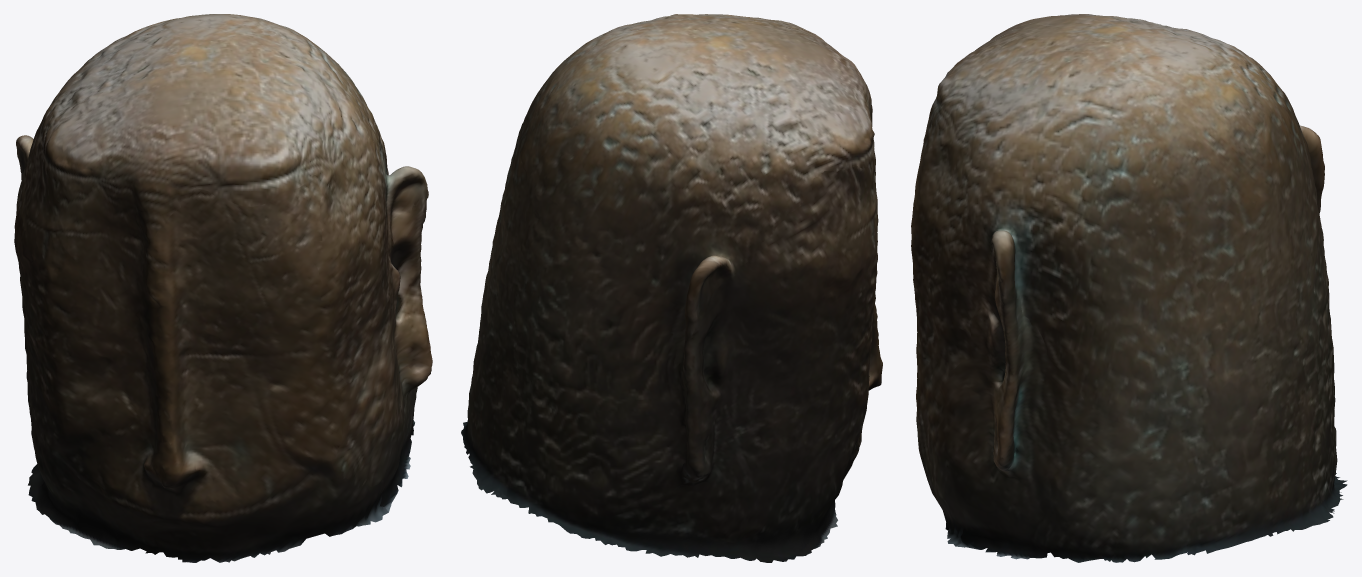
The model's file is smile.glb.
3 views of the same model, side by side, from view 1: azimuth 30°, elevation 25°; view 2: azimuth 150°, elevation 25°; view 3: azimuth 270°, elevation 25° (orthographic). The views are drawn at different scales.
Visible parts, largest first — view 1: 3DModel; view 2: 3DModel; view 3: 3DModel.
Part boxes in pixels (x1,y1,x2,y2): 3DModel: [14, 14, 432, 562]; 3DModel: [461, 14, 882, 562]; 3DModel: [911, 14, 1347, 562].
Size of the model in its own units: 4.63 by 5.57 by 4.53.
Materials: 1 (1 with a texture image).
